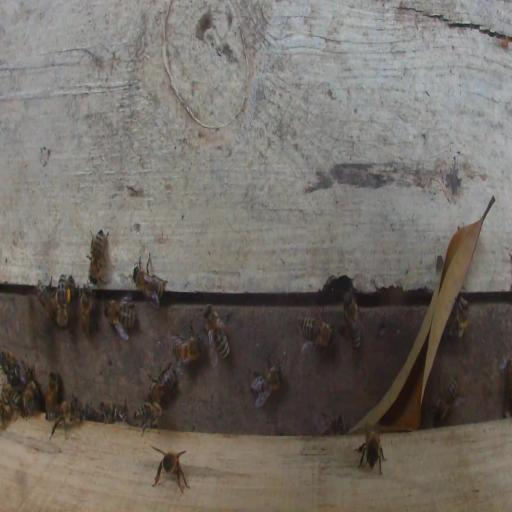nonpollenbee: (132, 252, 168, 308), (202, 305, 230, 365), (154, 448, 189, 494), (250, 361, 283, 408), (103, 298, 136, 341), (356, 428, 386, 475), (432, 375, 459, 423), (301, 315, 337, 348), (150, 363, 179, 403), (343, 290, 362, 350), (47, 400, 75, 440), (133, 401, 164, 436), (446, 295, 469, 339), (88, 230, 105, 284), (172, 334, 203, 363), (1, 383, 22, 424), (36, 281, 56, 324), (1, 348, 23, 384), (81, 283, 95, 338), (45, 370, 60, 420), (23, 378, 41, 415), (67, 276, 79, 326), (100, 404, 126, 422)
pollenbee: (55, 275, 71, 328)
